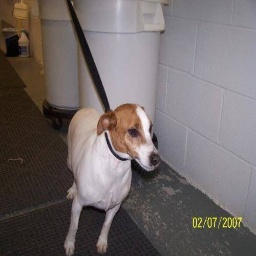dog: (57, 100, 159, 256)
